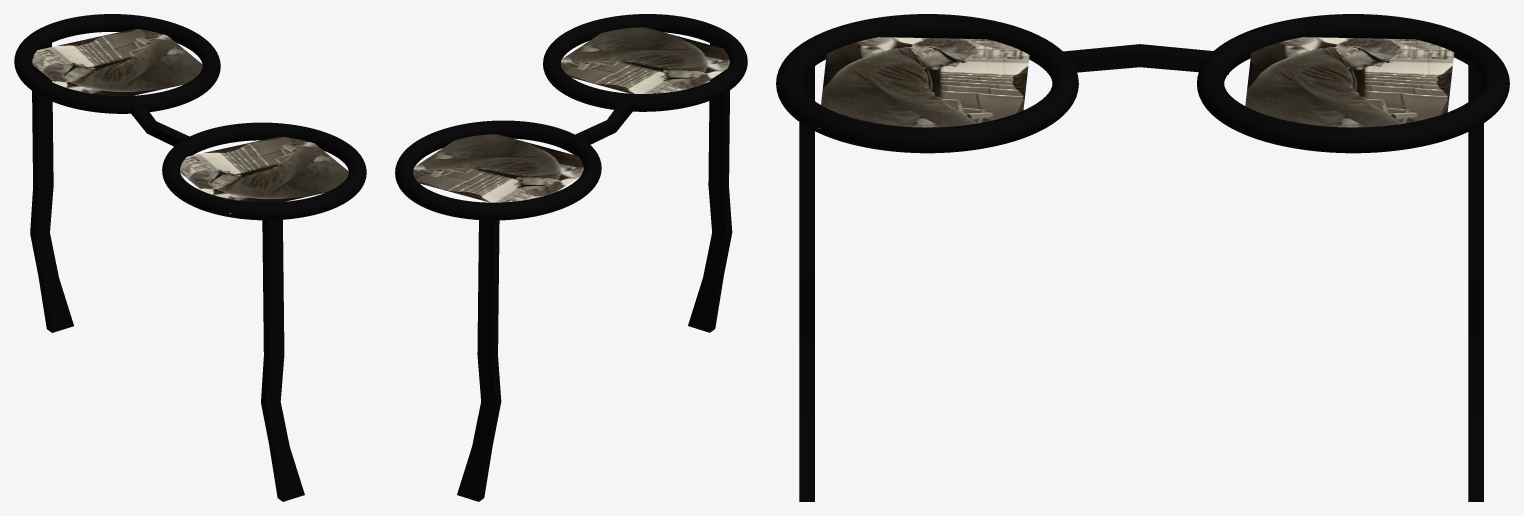
Rendered from glasses.glb.
3 renders of one model, left to right at view 1: azimuth 30°, elevation 25°; view 2: azimuth 150°, elevation 25°; view 3: azimuth 270°, elevation 25°, orthographic. The views are drawn at different scales.
Visible parts, largest first — view 1: Plan, Plan.001, Torus.001, Torus, Cube.002, Cube.001, Cube; view 2: Plan, Plan.001, Torus, Torus.001, Cube.001, Cube.002, Cube; view 3: Plan, Torus, Plan.001, Torus.001, Cube.001, Cube.002, Cube.
Part boxes in pixels (bbox=[...]): Plan: bbox=[32, 28, 202, 106]; Plan.001: bbox=[180, 136, 364, 213]; Torus.001: bbox=[162, 122, 366, 220]; Torus: bbox=[14, 14, 220, 113]; Cube.002: bbox=[261, 219, 304, 501]; Cube.001: bbox=[30, 38, 73, 332]; Cube: bbox=[130, 102, 189, 146]; Plan: bbox=[413, 134, 583, 202]; Plan.001: bbox=[561, 27, 747, 93]; Torus: bbox=[395, 120, 601, 220]; Torus.001: bbox=[543, 14, 747, 111]; Cube.001: bbox=[457, 220, 501, 501]; Cube.002: bbox=[688, 38, 732, 332]; Cube: bbox=[564, 100, 633, 149]; Plan: bbox=[1243, 37, 1454, 128]; Torus: bbox=[1197, 14, 1509, 153]; Plan.001: bbox=[818, 37, 1029, 128]; Torus.001: bbox=[776, 14, 1078, 153]; Cube.001: bbox=[1468, 59, 1483, 501]; Cube.002: bbox=[799, 60, 814, 501]; Cube: bbox=[1063, 44, 1228, 74].
Size of the model in its own units: 4.12 by 6.71 by 10.27.
Materials: 2 (1 with a texture image).
